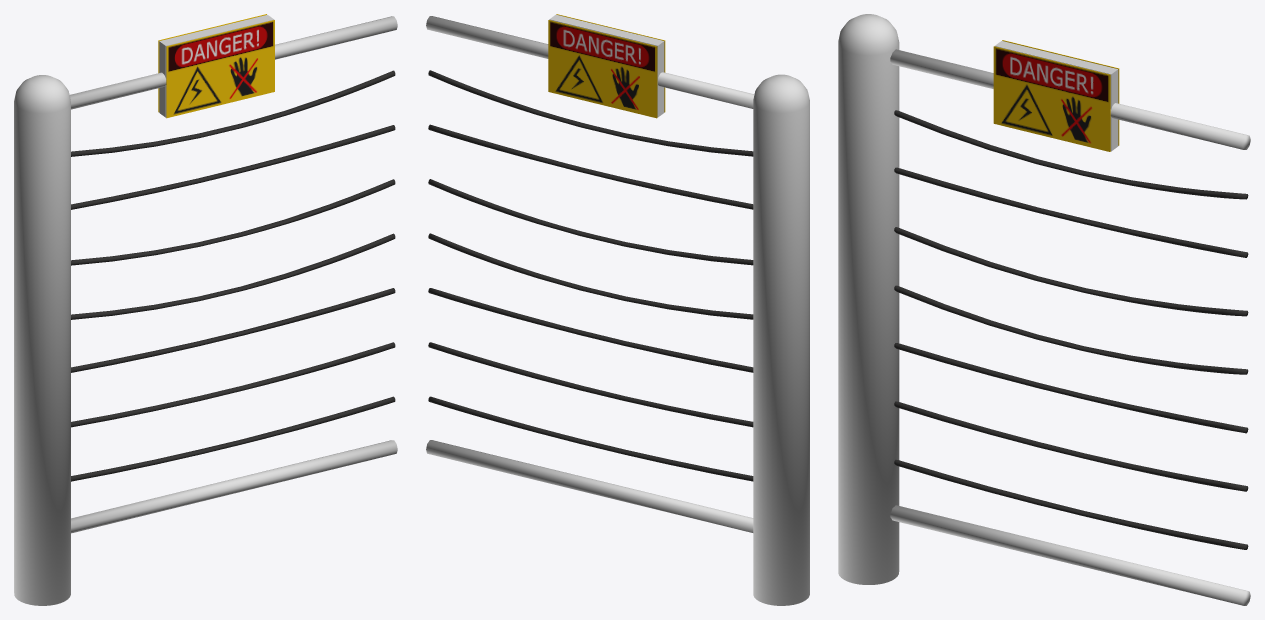
The model's file is FenceWiredPost.fbx.
3 renders of one model, left to right at view 1: azimuth 30°, elevation 25°; view 2: azimuth 150°, elevation 25°; view 3: azimuth 330°, elevation 25°, orthographic. The views are drawn at different scales.
Parts seen in each view (by area): view 1: Post, Sign1, Down, Up, Wires.005, Wires.006, Wires.002, Wires.007, Wires.003, Wires.001, Wires.004, MiddleWood; view 2: Post, Sign2, Down, Up, Wires.002, Wires.005, Wires.007, Wires.006, Wires.004, Wires.001, Wires.003, MiddleWood; view 3: Post, Sign1, Down, Up, Wires.005, Wires.006, Wires.002, Wires.007, Wires.004, Wires.003, Wires.001, MiddleWood.
Part boxes in pixels (x1,y1,x2,y2): Post: (14,75,70,605); Sign1: (166,20,274,118); Down: (71,440,397,533); Up: (69,16,397,109); Wires.005: (71,288,395,372); Wires.006: (71,342,395,427); Wires.002: (71,125,395,209); Wires.007: (71,396,395,481); Wires.003: (71,179,395,265); Wires.001: (71,70,395,156); Wires.004: (71,233,395,319); MiddleWood: (159,14,274,117); Post: (753,74,809,605); Sign2: (548,20,657,118); Down: (426,440,753,532); Up: (426,16,754,108); Wires.002: (428,124,753,209); Wires.005: (428,288,753,372); Wires.007: (428,396,753,481); Wires.006: (428,342,753,427); Wires.004: (428,233,753,319); Wires.001: (428,70,753,156); Wires.003: (428,179,753,265); MiddleWood: (549,14,664,117); Post: (838,14,899,584); Sign1: (993,46,1110,151); Down: (890,505,1250,605); Up: (890,49,1250,149); Wires.005: (894,343,1248,433); Wires.006: (894,401,1248,491); Wires.002: (894,167,1248,257); Wires.007: (894,460,1248,549); Wires.004: (894,285,1248,374); Wires.003: (894,227,1248,316); Wires.001: (894,110,1248,199); MiddleWood: (994,41,1118,151).
Size of the model in its own units: 115 by 152 by 15.
